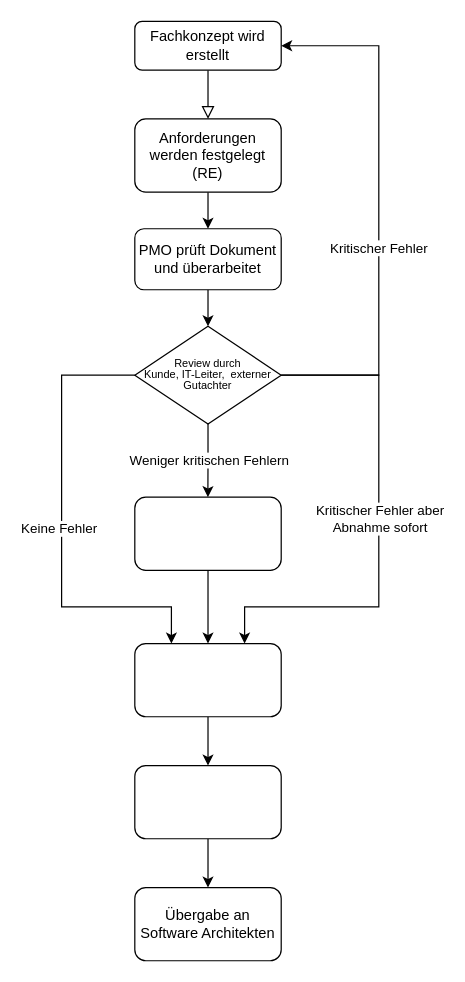
This 465x982 diagram has some shape labels left out. Each missing label, with the centre of its shape:
"Abnahme durch PMO" belongs at point 207,679.
"Stakeholder unterschreiben" belongs at point 207,801.
"Überarbeitung durch RE" belongs at point 207,533.
